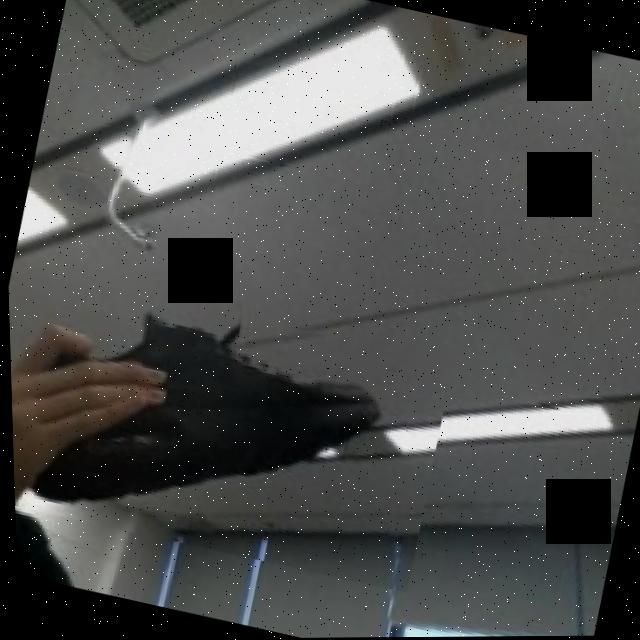shoe: (6, 263, 457, 595)
